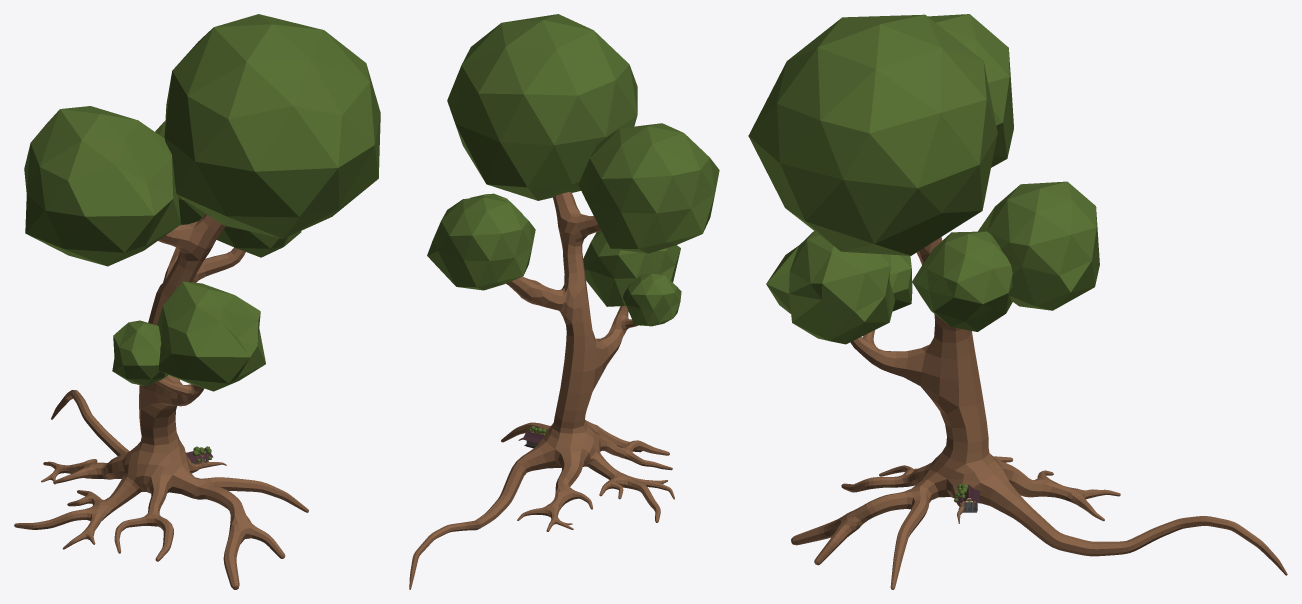
Rendered from TreeTemple.fbx.
The picture shows the model from 3 angles, left to right: view 1: azimuth 30°, elevation 25°; view 2: azimuth 150°, elevation 25°; view 3: azimuth 270°, elevation 25°; orthographic projection. The views are drawn at different scales.
Visible parts, largest first — view 1: WorldTree; view 2: WorldTree; view 3: WorldTree.
Boxes of the visible parts, x1=… form: WorldTree: x1=14, y1=14, x2=380, y2=589; WorldTree: x1=409, y1=14, x2=719, y2=589; WorldTree: x1=748, y1=14, x2=1287, y2=589.
Size of the model in its own units: 88723 by 142401 by 122516.
